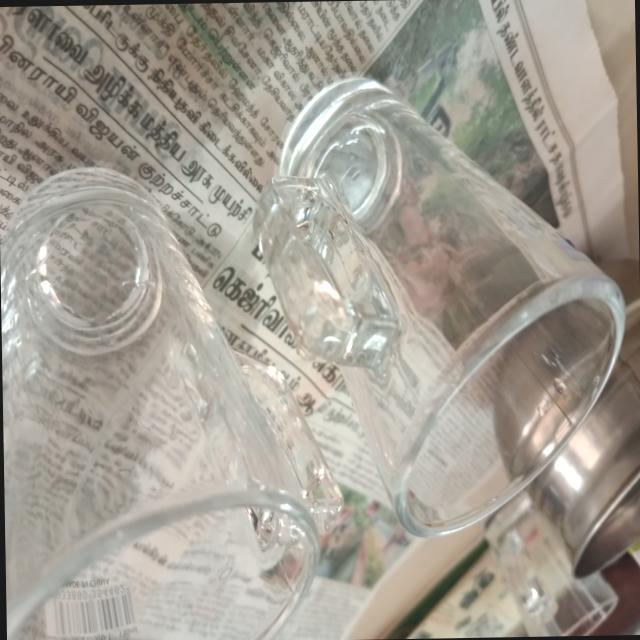glass-VX4N: (247, 48, 624, 538), (0, 161, 342, 640)
